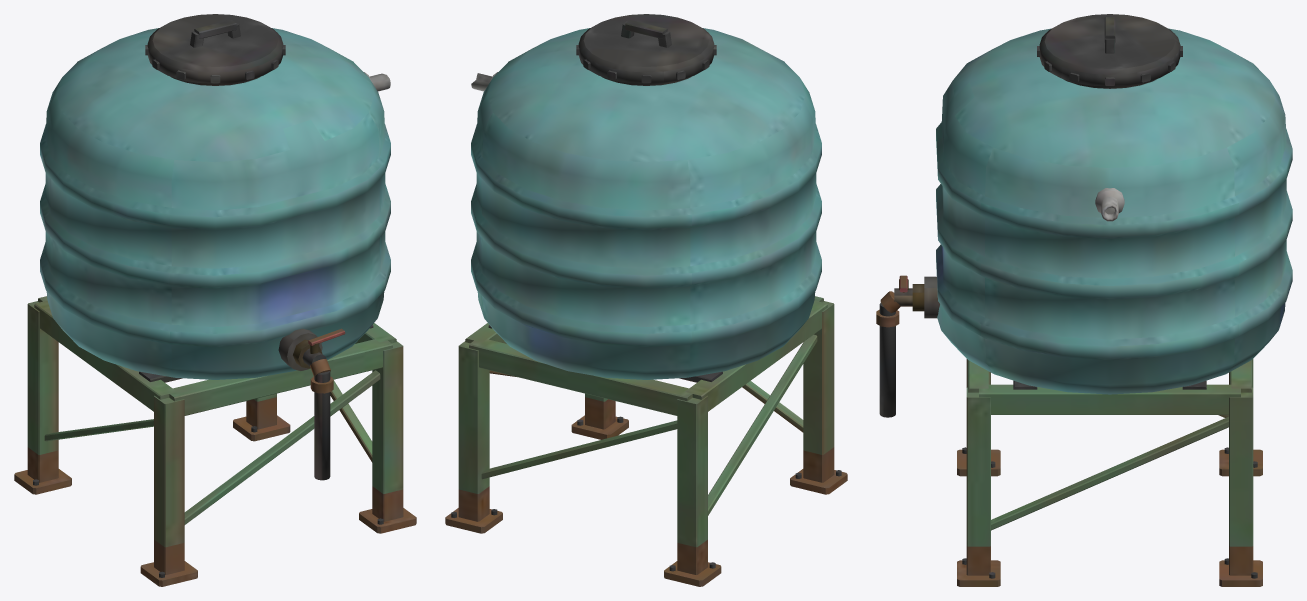
Rendered from R18_rooftop_water_tank.glb.
3 renders of one model, left to right at view 1: azimuth 30°, elevation 25°; view 2: azimuth 150°, elevation 25°; view 3: azimuth 270°, elevation 25°, orthographic. The views are drawn at different scales.
Visible parts, largest first — view 1: Rooftop Water Tank; view 2: Rooftop Water Tank; view 3: Rooftop Water Tank.
Boxes of the visible parts, x1,y1,x2,y2 form: Rooftop Water Tank: [14, 14, 416, 586]; Rooftop Water Tank: [445, 14, 847, 586]; Rooftop Water Tank: [876, 14, 1292, 586].
Bounding box in the file's own units: 1.42 × 2 × 1.52.
Materials: 9 (9 with a texture image).
